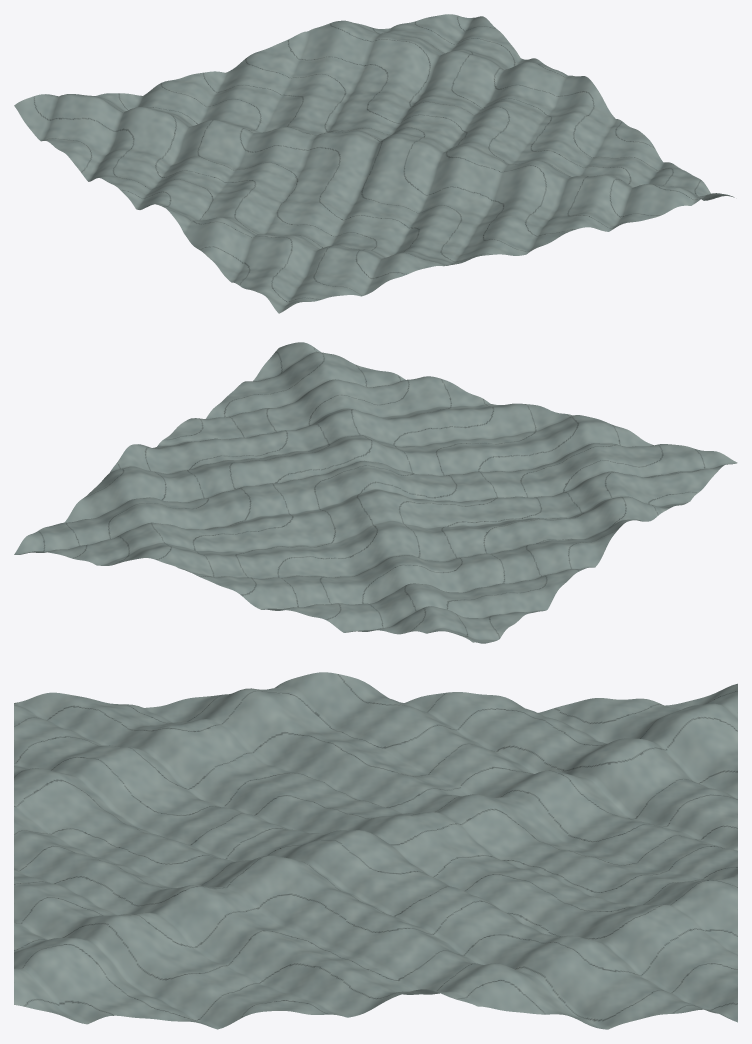
Rendered from saturn_landscape.glb.
The picture shows the model from 3 angles, top to bottom: view 1: azimuth 30°, elevation 25°; view 2: azimuth 150°, elevation 25°; view 3: azimuth 270°, elevation 25°; orthographic projection. The views are drawn at different scales.
Visible parts, largest first — view 1: Saturn Landscape; view 2: Saturn Landscape; view 3: Saturn Landscape.
Part boxes in pixels (bbox=[...]): Saturn Landscape: bbox=[14, 14, 734, 313]; Saturn Landscape: bbox=[14, 342, 737, 643]; Saturn Landscape: bbox=[14, 672, 737, 1029].
Size of the model in its own units: 760 by 63.11 by 760.
1 material, 1 textured.
